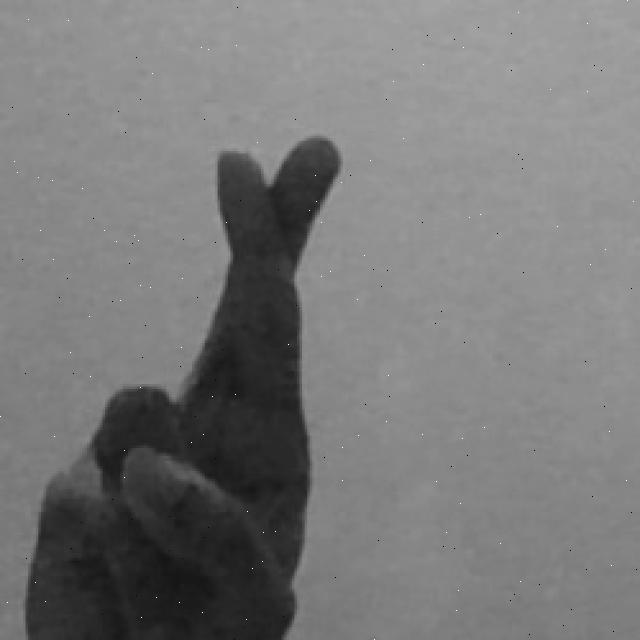R: (21, 129, 348, 640)
